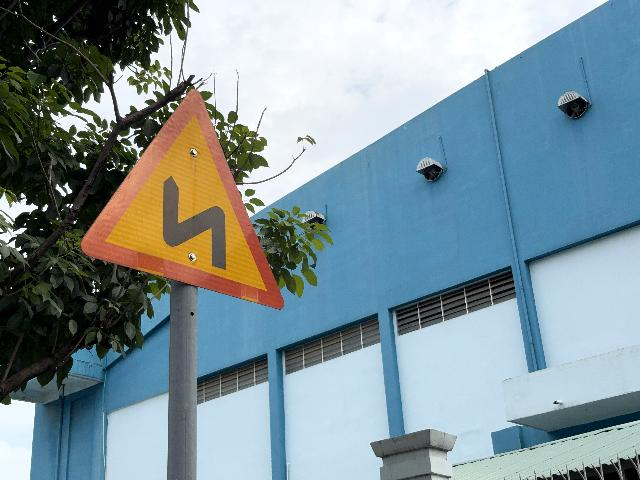nhieu-cho-ngoat-nguy-hiem-lien-tiep: (80, 88, 284, 310)
